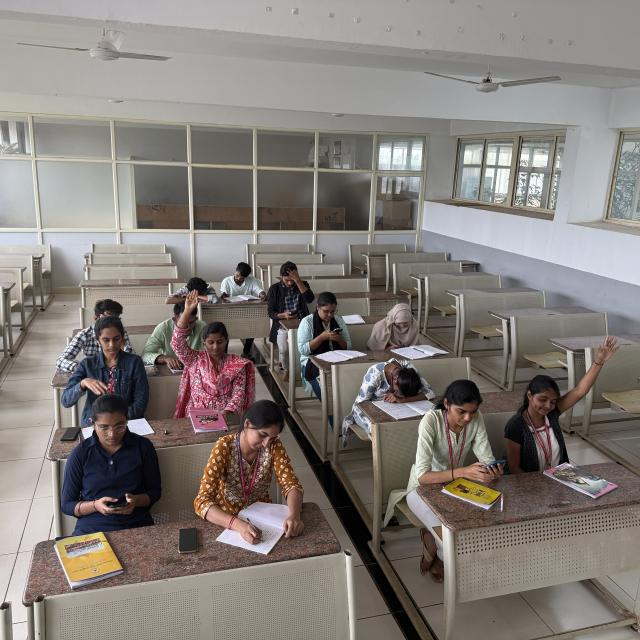Hand Rising: (503, 328, 622, 472), (171, 290, 256, 412)
Reading: (221, 259, 268, 308)
Sleeping: (349, 358, 432, 424), (165, 271, 223, 307)
Using Phone: (56, 397, 169, 544), (408, 376, 513, 522), (293, 292, 365, 369), (364, 301, 436, 361), (262, 256, 318, 328)
Writing: (185, 394, 305, 552)
